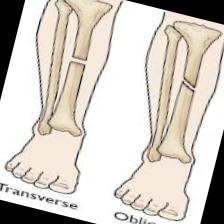transverse-fracture: (0, 0, 126, 176)
